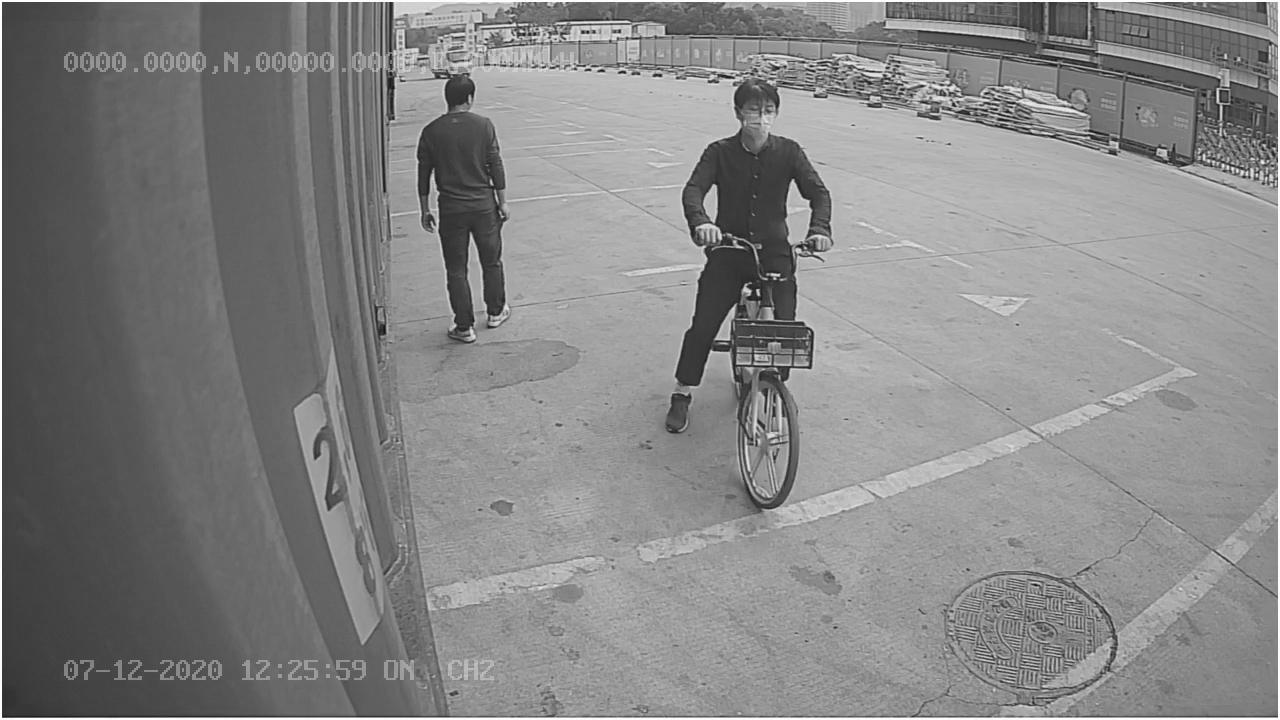person: (411, 71, 516, 349)
